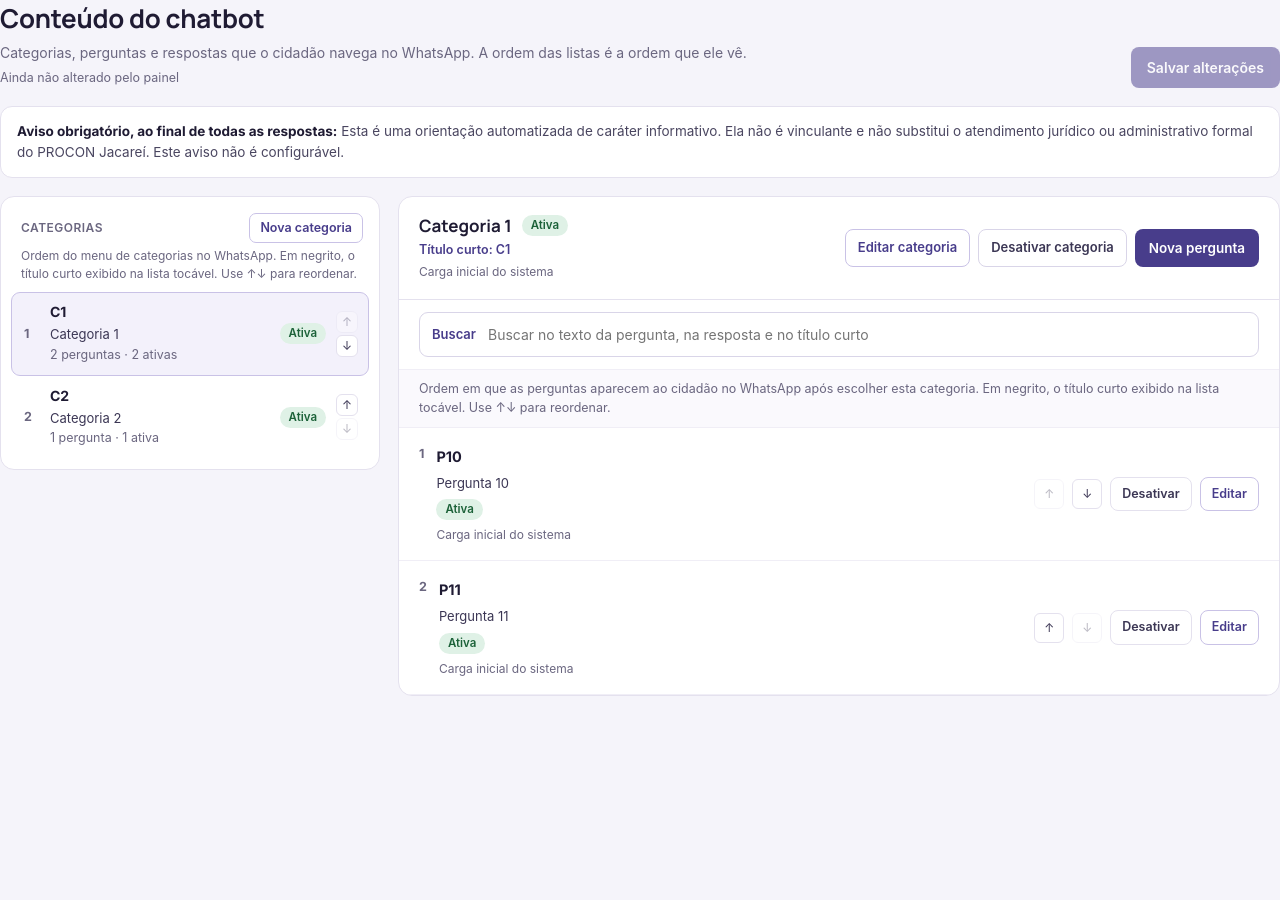
Test case: ContentPage › o painel lateral de pergunta nova mostra a categoria e não mostra a última alteração
The width and height of the screenshot is (1280, 900).
Expected: the heading "Categorias" is shown, [21,219,103,237]
Expected: the text "P10" is shown, [436,448,462,465]
Click the button "Nova pergunta".
click(1197, 248)  # box [1135,229,1259,267]
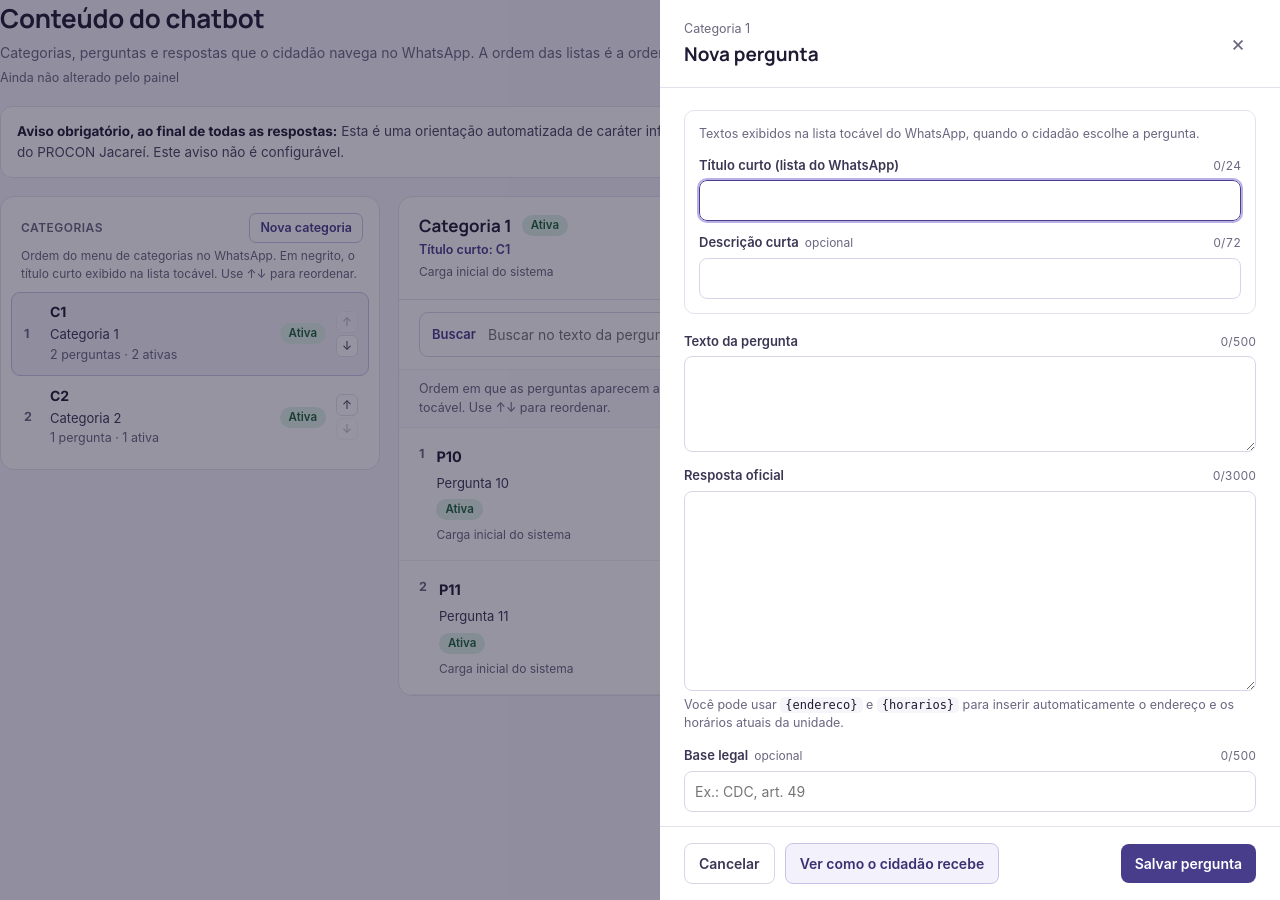
Now the text "Categoria 1" is shown, box [684,21,750,36]
